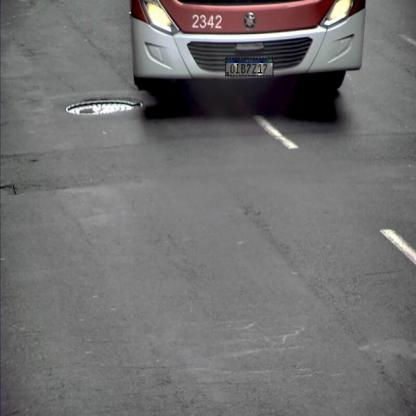PlacaM: (225, 58, 274, 76)
